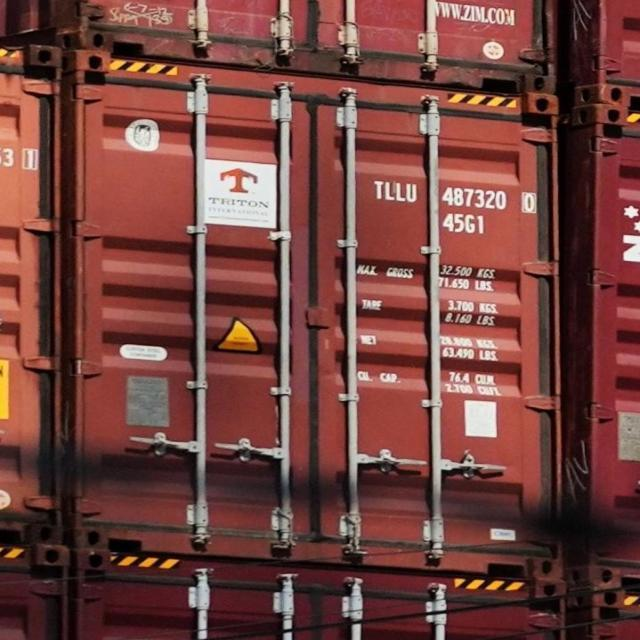ISO: (443, 210, 490, 237)
container_number: (371, 176, 544, 209)
